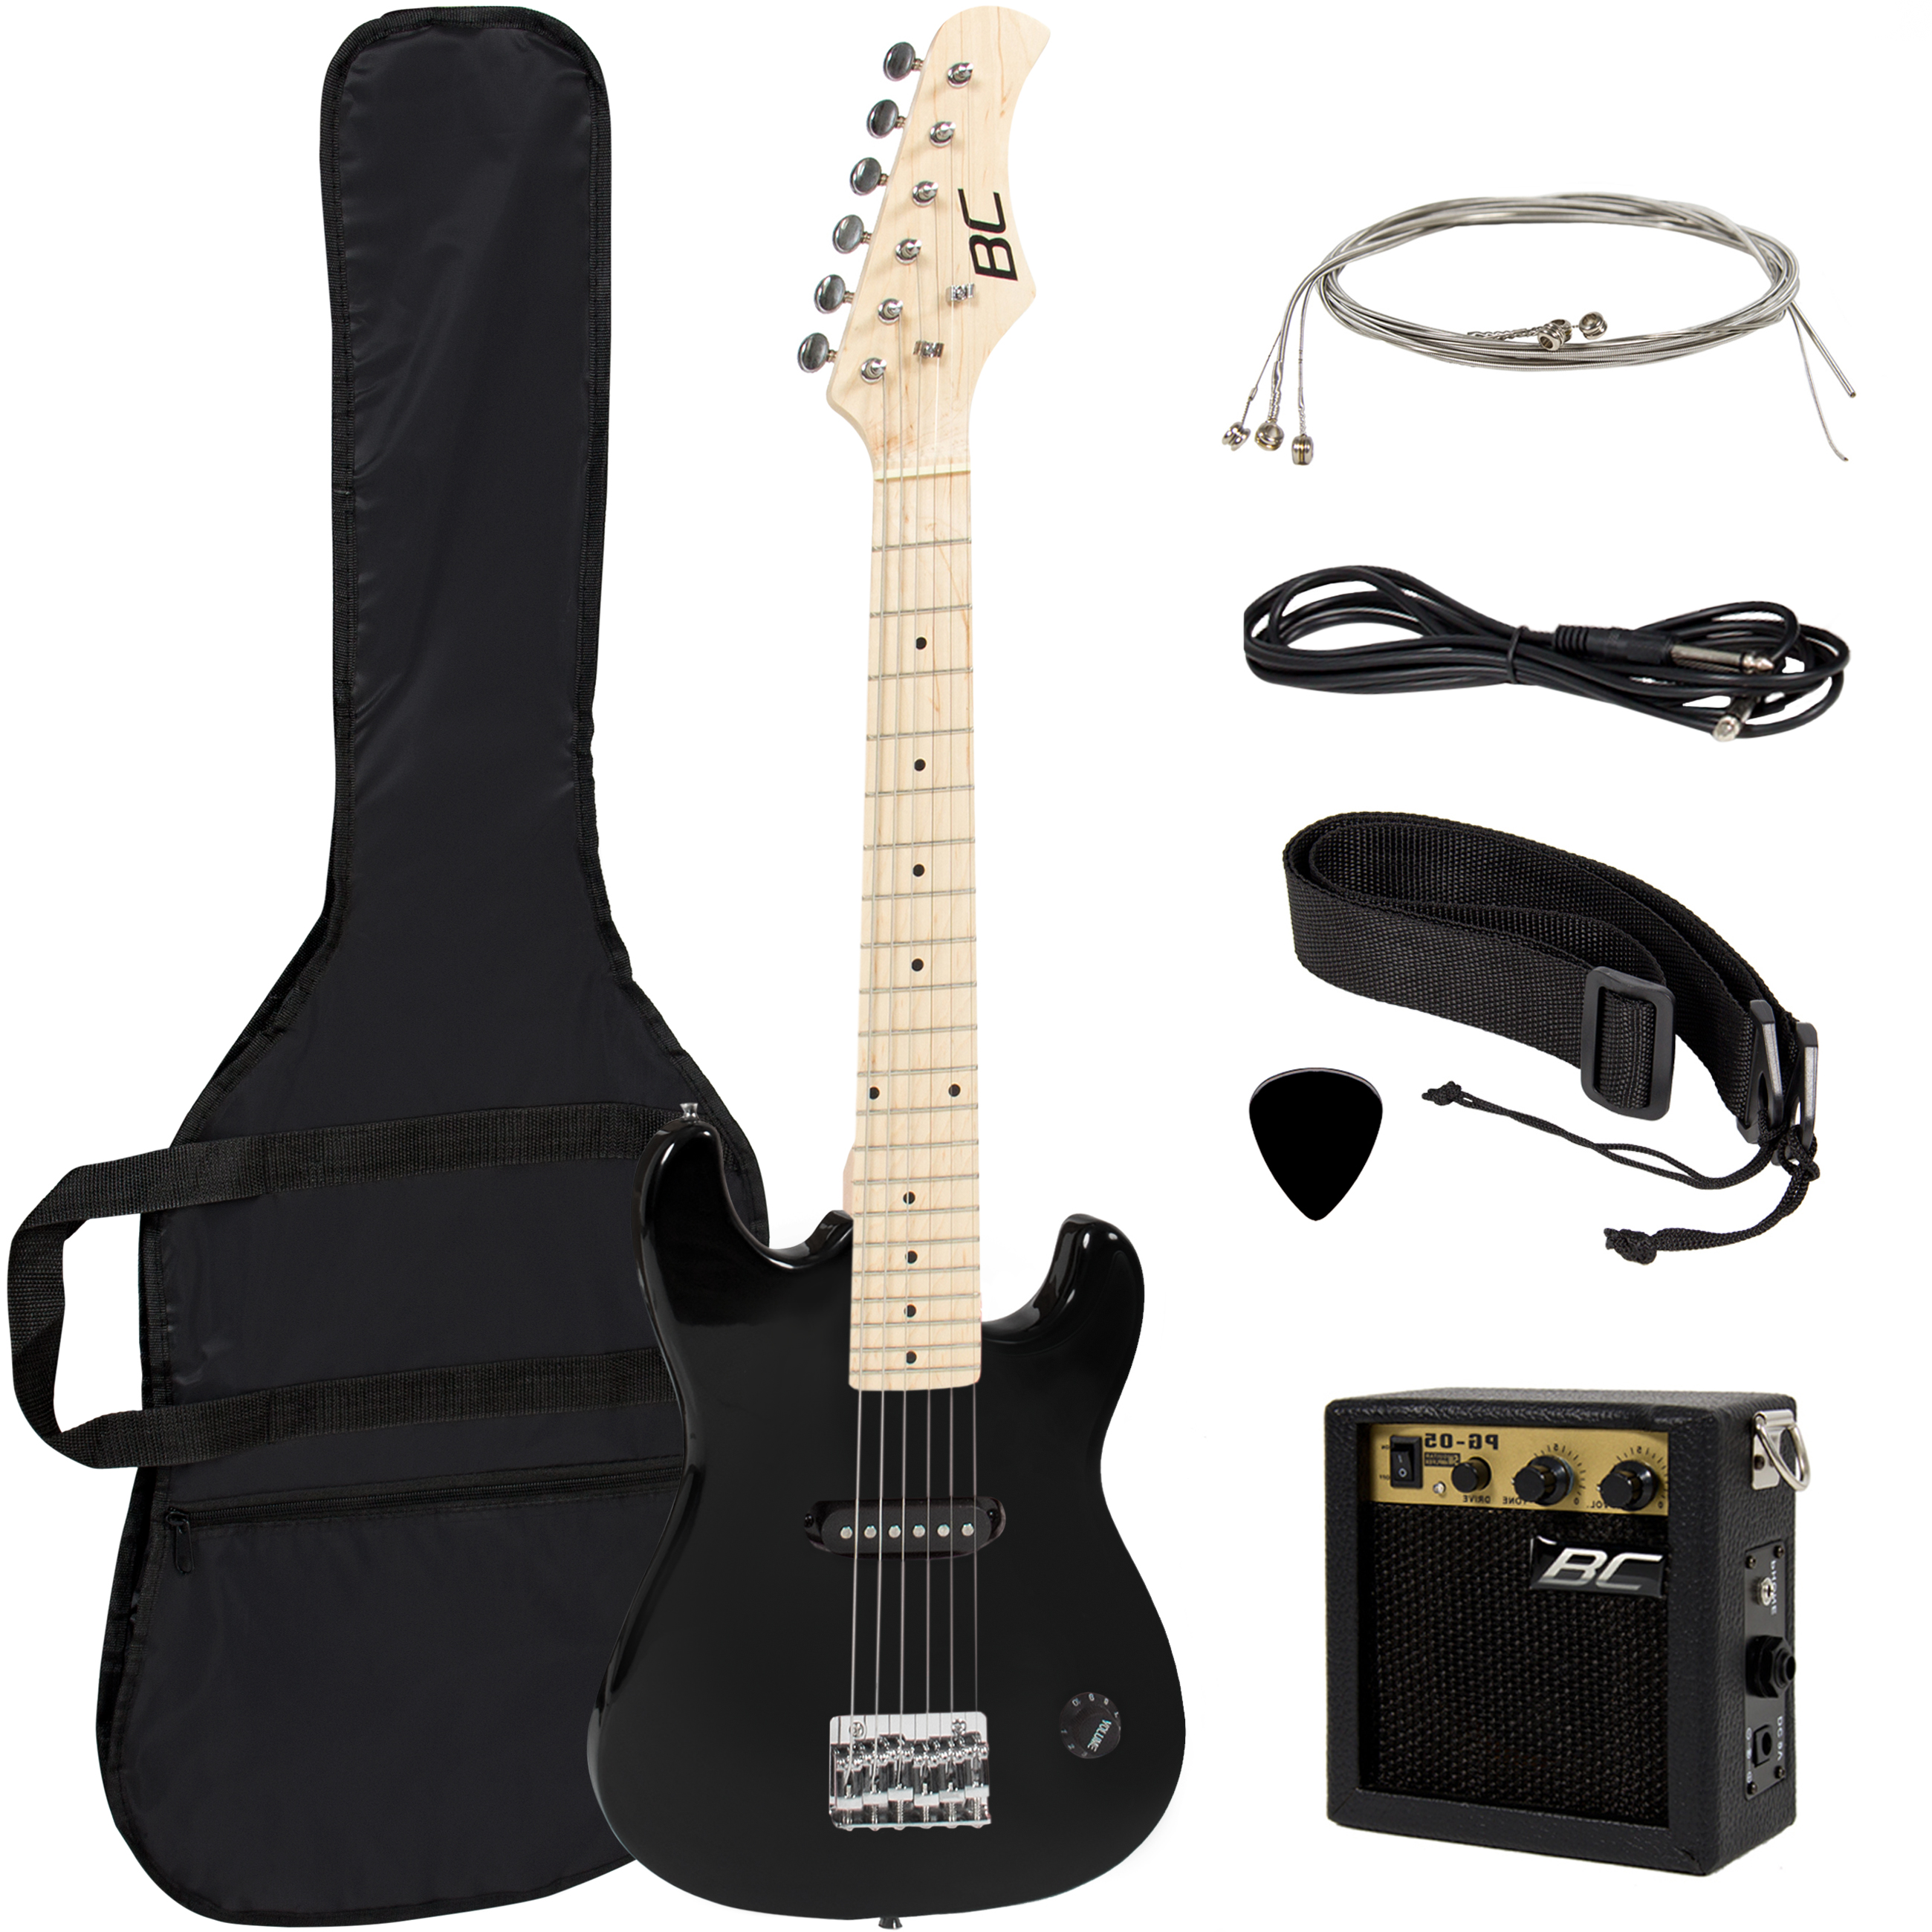ElectricGuitar: (591, 55, 1185, 1927)
